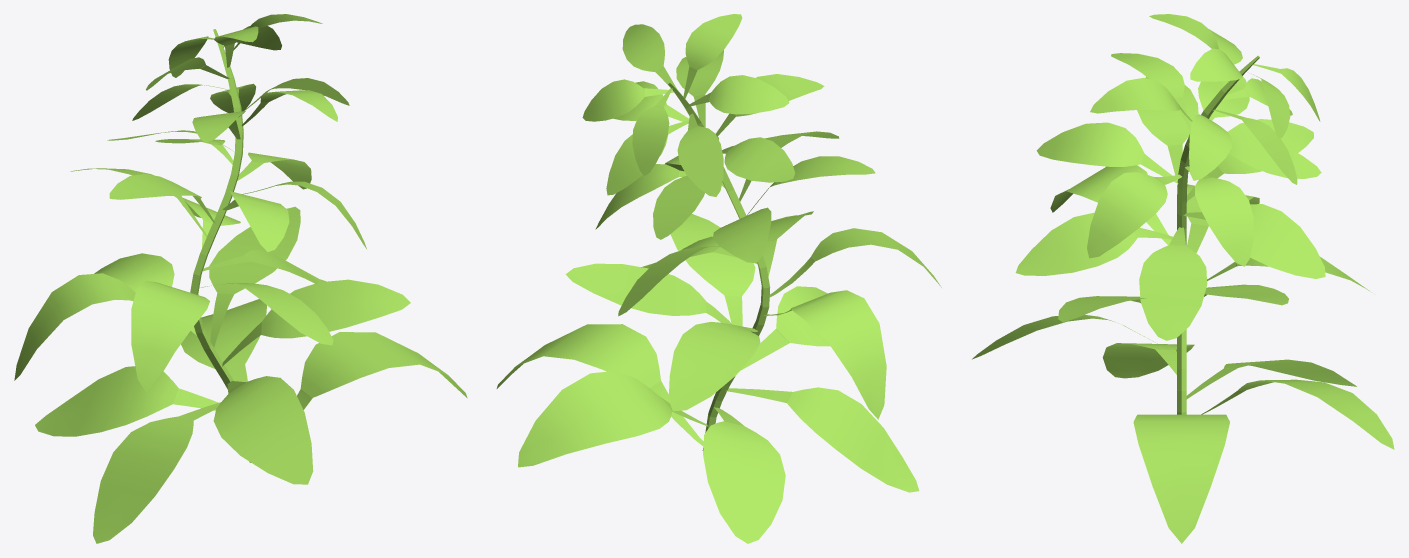
File: tunas.fbx
The picture shows the model from 3 angles, left to right: view 1: azimuth 30°, elevation 25°; view 2: azimuth 150°, elevation 25°; view 3: azimuth 270°, elevation 25°; orthographic projection.
Parts seen in each view (by area): view 1: Plane.003, Circle.006; view 2: Plane.003, Circle.006; view 3: Plane.003, Circle.006.
Boxes of the visible parts, left/top/right/bottom form: Plane.003: left=14, top=14, right=467, bottom=543; Circle.006: left=190, top=29, right=250, bottom=462; Plane.003: left=496, top=14, right=941, bottom=543; Circle.006: left=667, top=81, right=770, bottom=450; Plane.003: left=972, top=14, right=1394, bottom=543; Circle.006: left=1177, top=55, right=1259, bottom=414.
Bounding box in the file's own units: 954 × 980 × 848.
